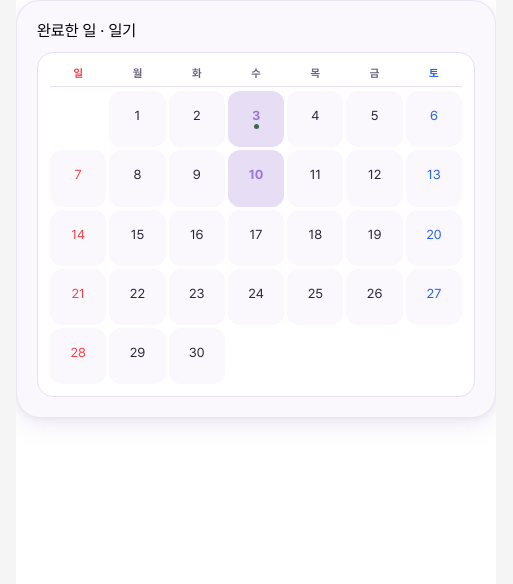
it: CompletedCalendar 마운트 › 날짜 칸을 탭하면 그날 완료 목록 + 일기 요약 패널이 보인다(크래시 0)
Click the button named "3일 (완료한 일 있음, 일기 있음)" at (256, 119), box [228,91,284,147]
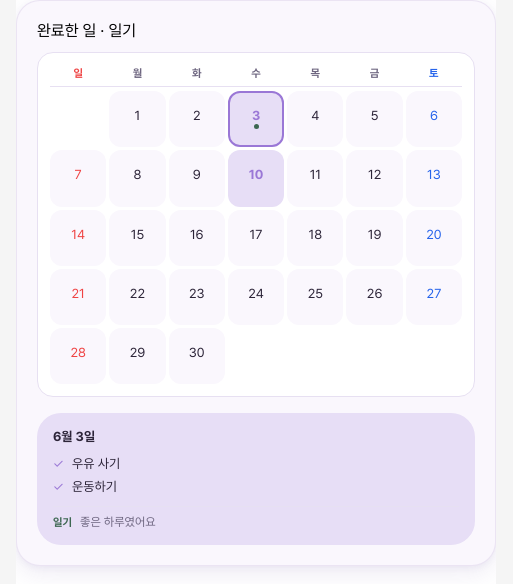
Now the text "6월 3일" is shown, box [53,430,95,444]
Now the text "우유 사기" is shown, box [72,456,120,472]
Now the text "운동하기" is shown, box [72,480,117,494]
